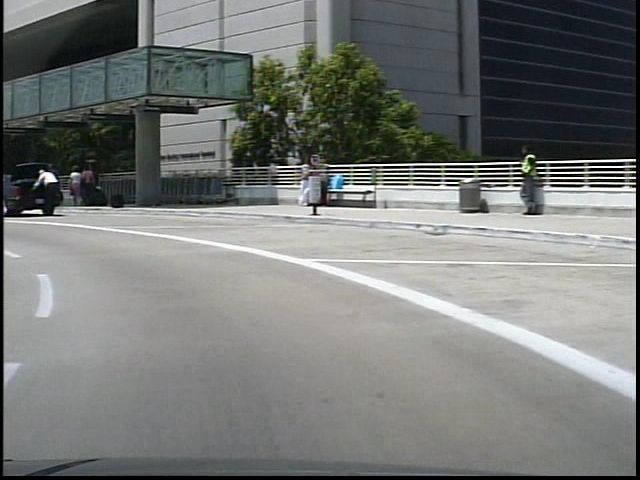person: (507, 144, 535, 222), (27, 166, 58, 219), (77, 162, 92, 209), (64, 166, 78, 207)
